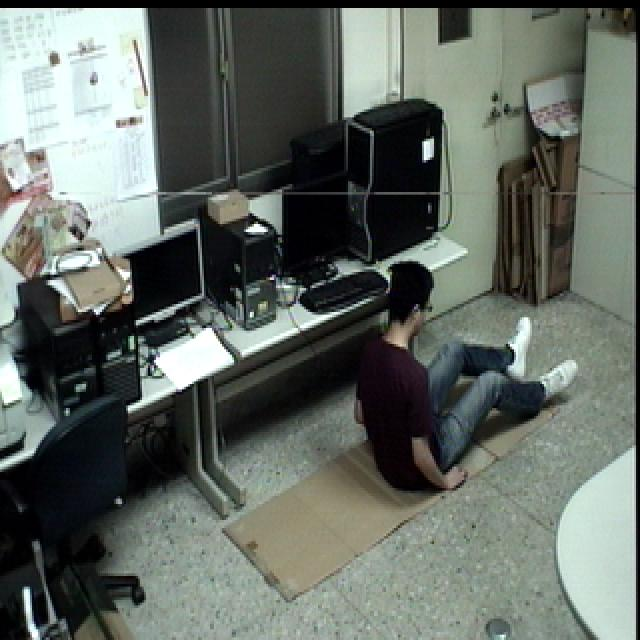sit: (350, 252, 585, 497)
